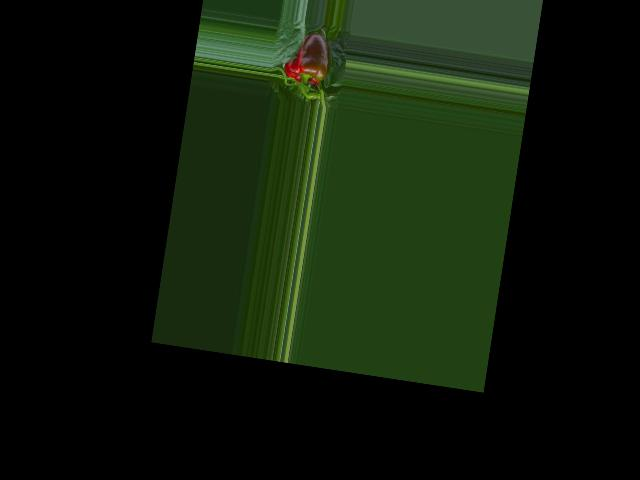bell_pepper: (279, 25, 339, 93)
